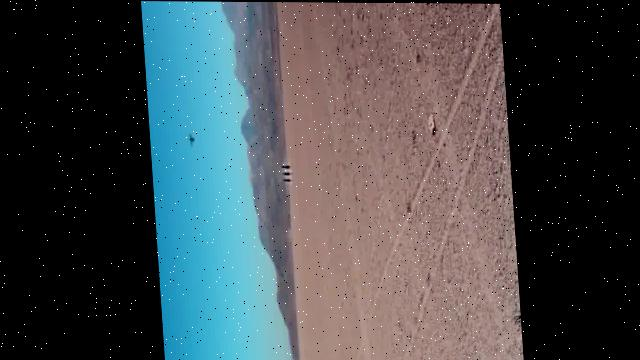drone: (183, 131, 194, 148)
